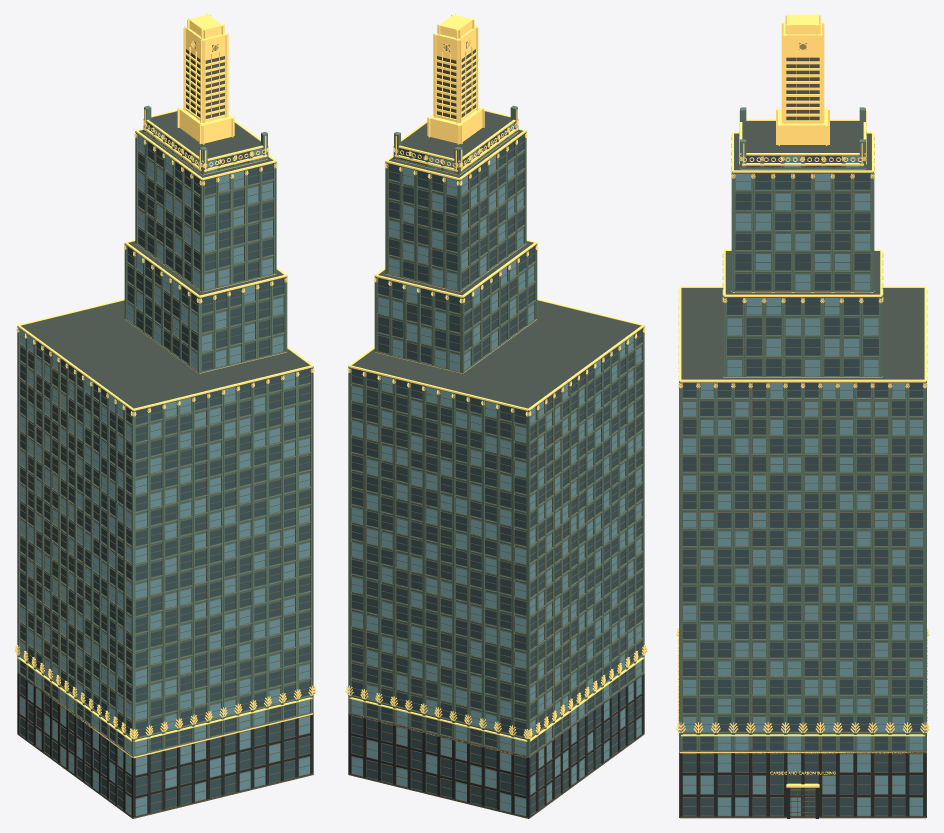
The model's file is carbide_carbon.glb.
3 views of the same model, side by side, from view 1: azimuth 30°, elevation 25°; view 2: azimuth 150°, elevation 25°; view 3: azimuth 270°, elevation 25° (orthographic). The views are drawn at different scales.
Parts seen in each view (by area): view 1: Unoccupied inset glazing, Raised green glazed piers, Bronze window frames, Night occupied inset glazing, Bottle green terra cotta, Setback terrace roofing, Night gilded crown and relief, Polished black granite base; view 2: Unoccupied inset glazing, Raised green glazed piers, Bronze window frames, Night occupied inset glazing, Bottle green terra cotta, Setback terrace roofing, Night gilded crown and relief, Polished black granite base; view 3: Unoccupied inset glazing, Raised green glazed piers, Bronze window frames, Night occupied inset glazing, Bottle green terra cotta, Night gilded crown and relief, Setback terrace roofing, Polished black granite base.
Boxes of the visible parts, <box> form: Unoccupied inset glazing: <box>20,123,309,812</box>; Raised green glazed piers: <box>17,105,313,757</box>; Bronze window frames: <box>17,40,312,818</box>; Night occupied inset glazing: <box>20,129,309,815</box>; Bottle green terra cotta: <box>17,126,312,755</box>; Setback terrace roofing: <box>21,111,309,408</box>; Night gilded crown and relief: <box>14,14,316,757</box>; Polished black granite base: <box>17,673,313,818</box>; Unoccupied inset glazing: <box>352,129,641,814</box>; Raised green glazed piers: <box>348,105,644,757</box>; Bronze window frames: <box>349,40,644,818</box>; Night occupied inset glazing: <box>352,123,641,815</box>; Bottle green terra cotta: <box>349,126,644,755</box>; Setback terrace roofing: <box>352,111,640,408</box>; Night gilded crown and relief: <box>345,14,647,756</box>; Polished black granite base: <box>348,673,644,818</box>; Unoccupied inset glazing: <box>683,156,922,815</box>; Raised green glazed piers: <box>679,107,926,752</box>; Bronze window frames: <box>679,43,926,818</box>; Night occupied inset glazing: <box>683,156,922,815</box>; Bottle green terra cotta: <box>679,123,926,751</box>; Night gilded crown and relief: <box>676,14,929,787</box>; Setback terrace roofing: <box>682,121,923,379</box>; Polished black granite base: <box>679,752,926,818</box>.
Bounding box in the file's own units: 41.27 × 153 × 45.67.
